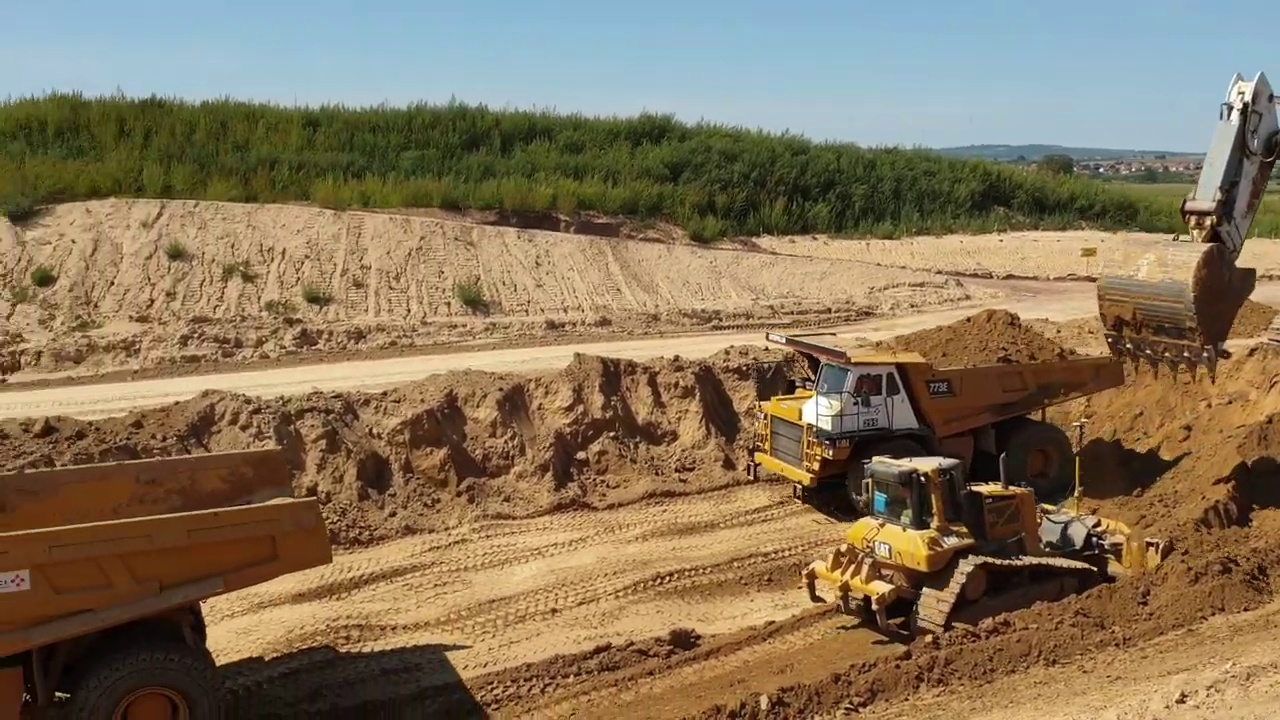bulldozer: (805, 417, 1194, 647)
excavator: (1092, 67, 1280, 388)
truck: (1, 448, 333, 720), (752, 330, 1132, 527)
